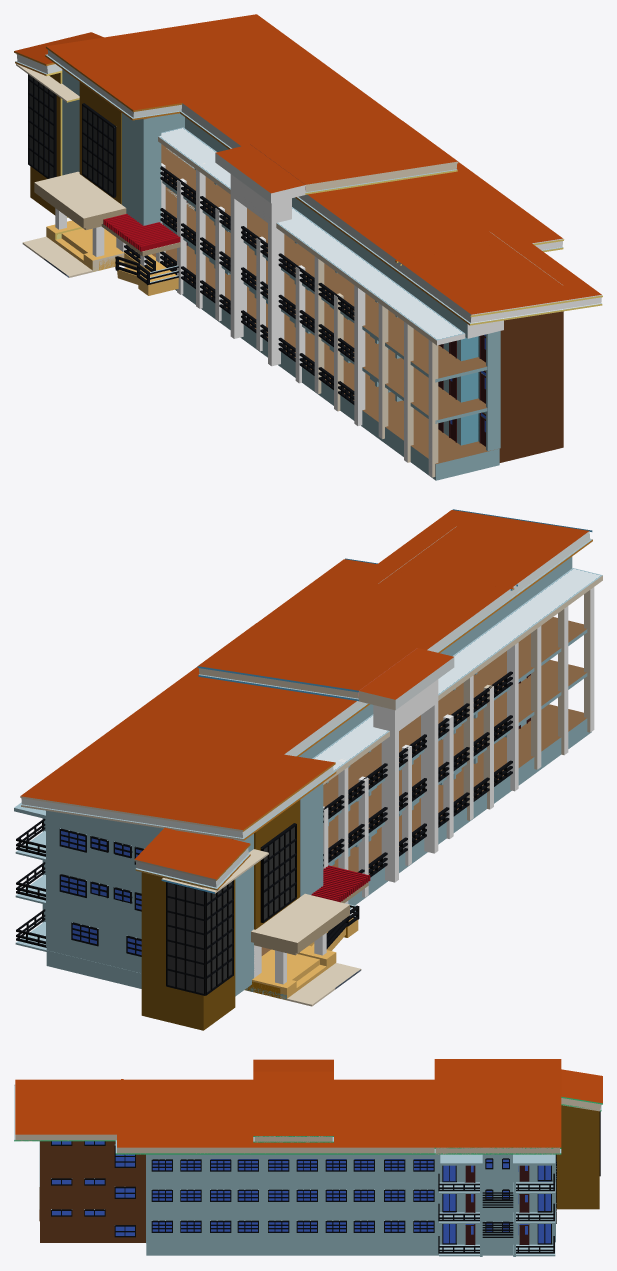
File: CAH 1.glb
3 renders of one model, top to bottom at view 1: azimuth 30°, elevation 25°; view 2: azimuth 150°, elevation 25°; view 3: azimuth 270°, elevation 25°, orthographic. The views are drawn at different scales.
Parts seen in each view (by area): view 1: cube.292; view 2: cube.292; view 3: cube.292.
Part boxes in pixels (x1,y1,x2,y2): cube.292: (14, 14, 602, 480); cube.292: (14, 509, 602, 1030); cube.292: (14, 1059, 602, 1256).
Size of the model in its own units: 10.5 by 6.94 by 27.84.
Materials: 44 (43 with a texture image).
